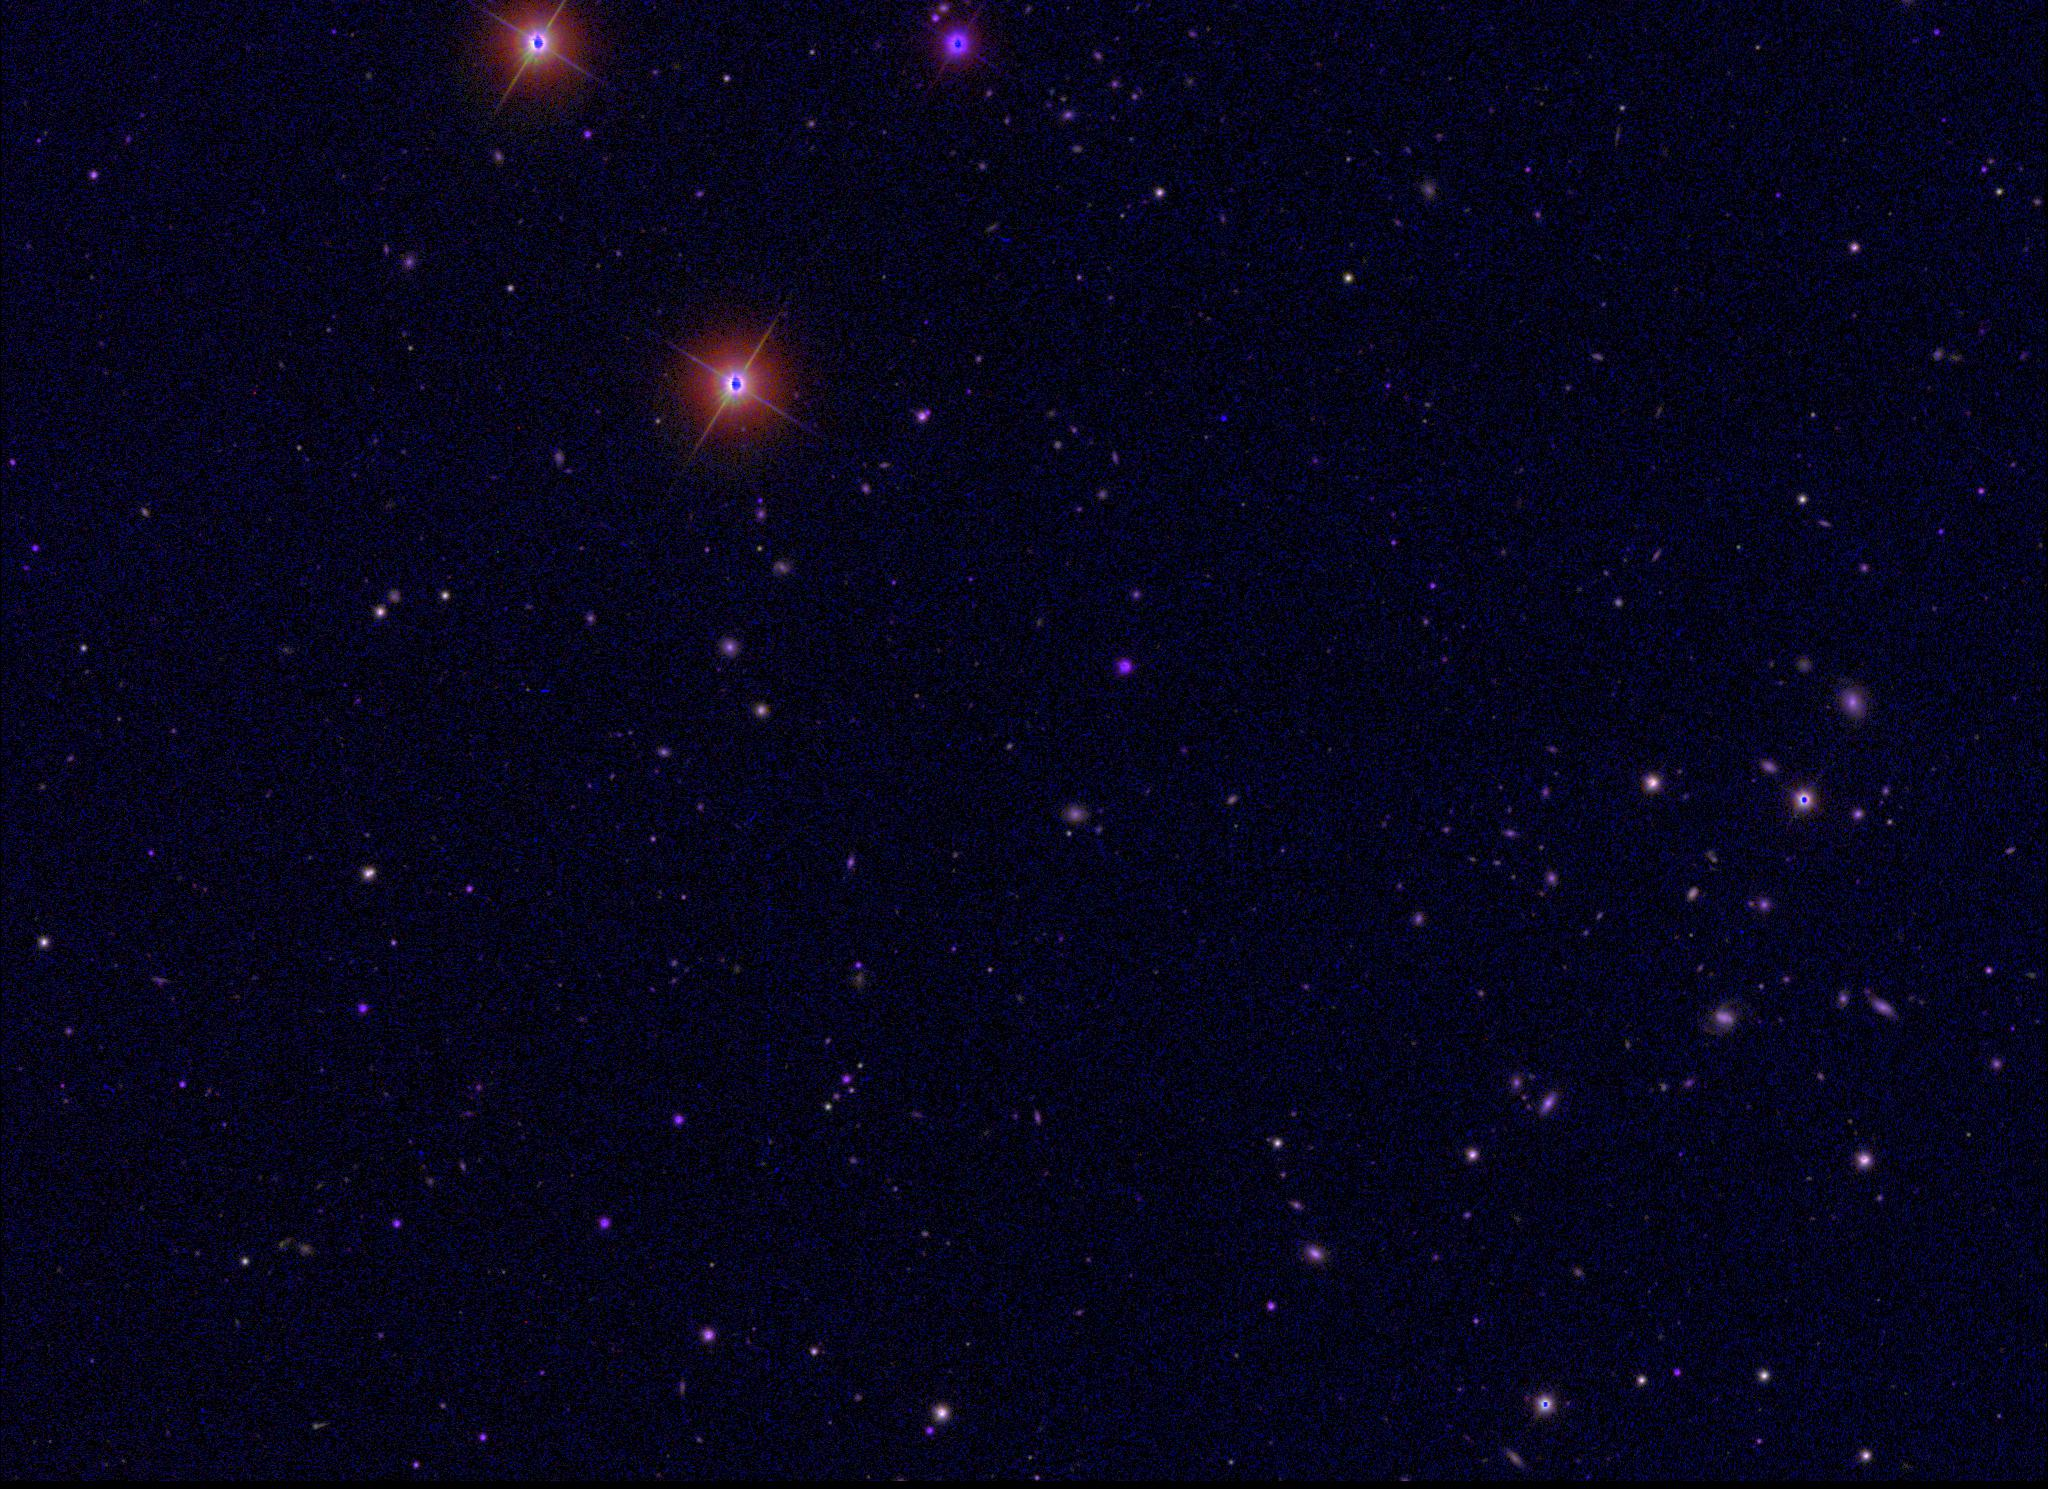L: (1216, 410, 1231, 425)
